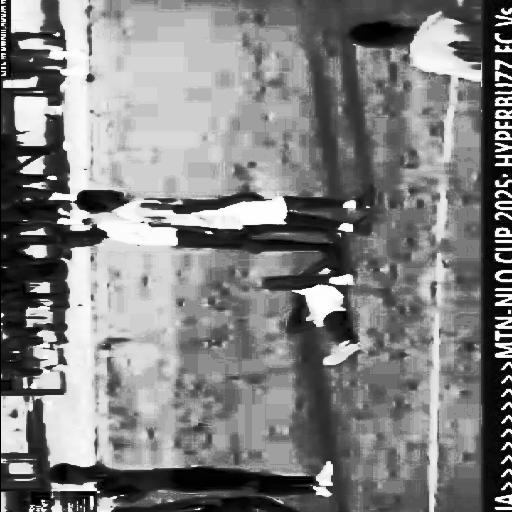referee: (59, 221, 348, 257)
team1: (56, 180, 374, 230), (328, 1, 486, 77), (256, 262, 360, 370)
team2: (39, 460, 335, 489), (100, 495, 346, 512)
